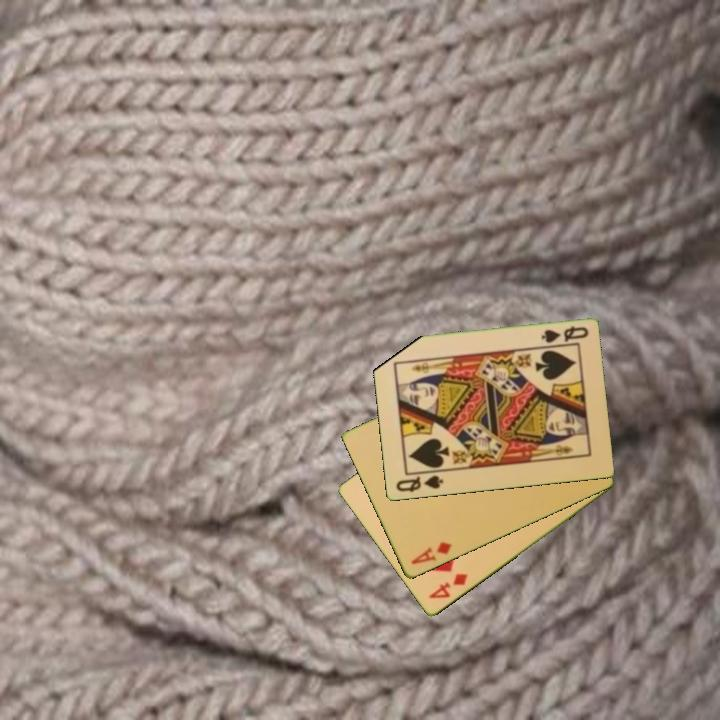4d: (425, 570, 470, 602)
Ad: (407, 538, 454, 568)
Qs: (392, 472, 446, 495), (537, 323, 591, 346)
